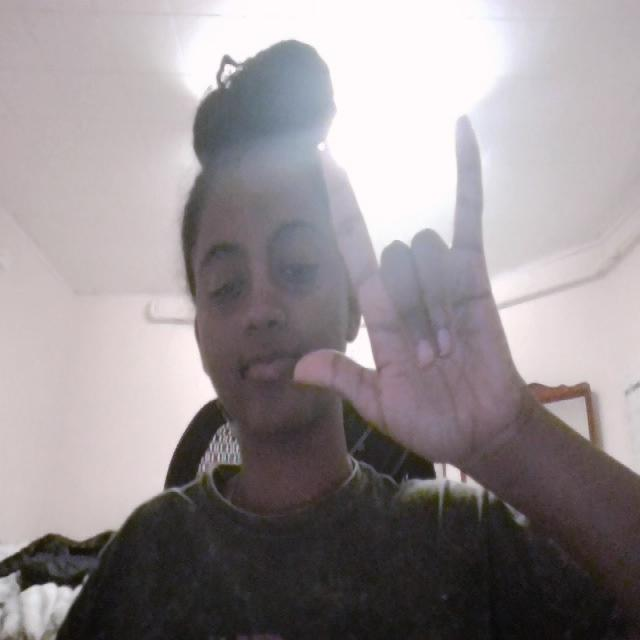iloveyou: (283, 84, 549, 482)
